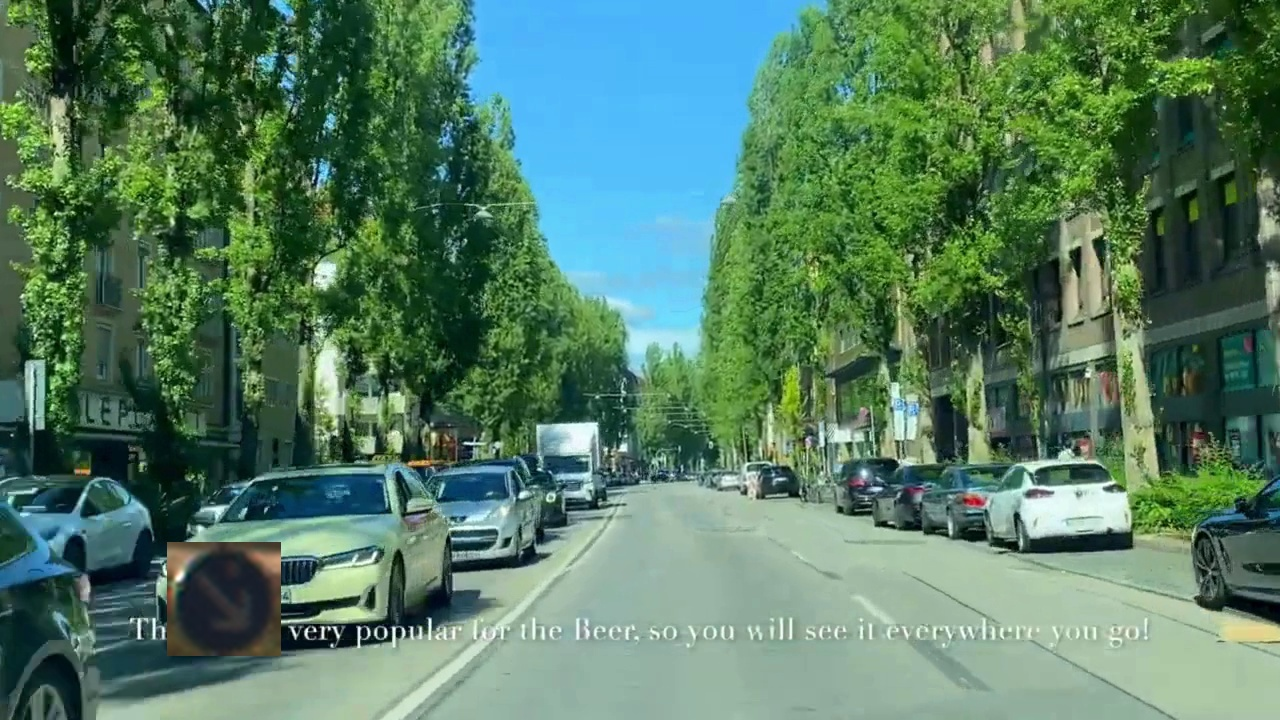Keep right: (167, 542, 281, 656)
